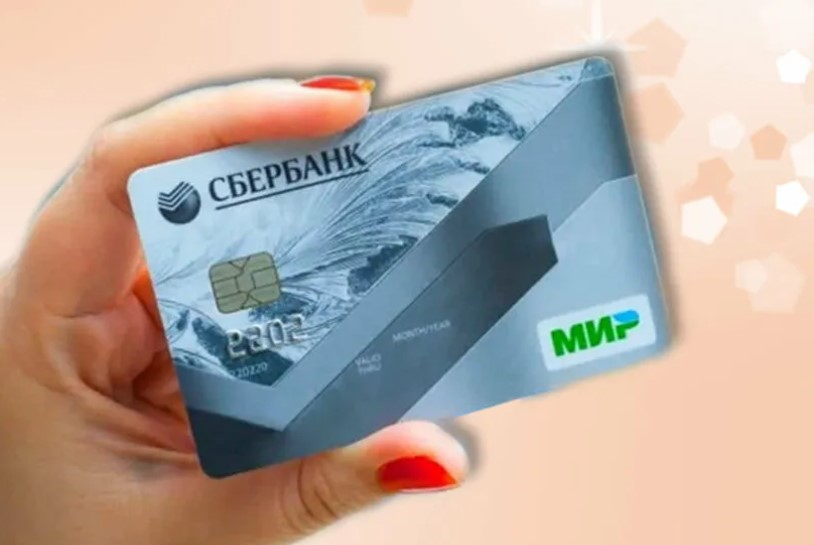card: (126, 55, 671, 479)
